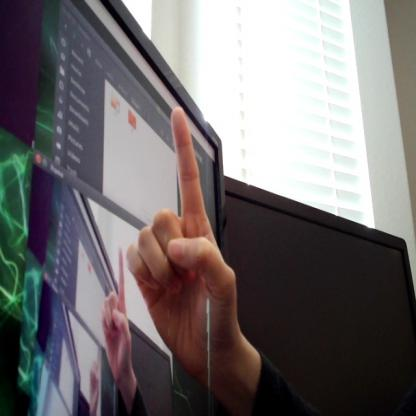one: (126, 95, 241, 386), (97, 245, 135, 381)
